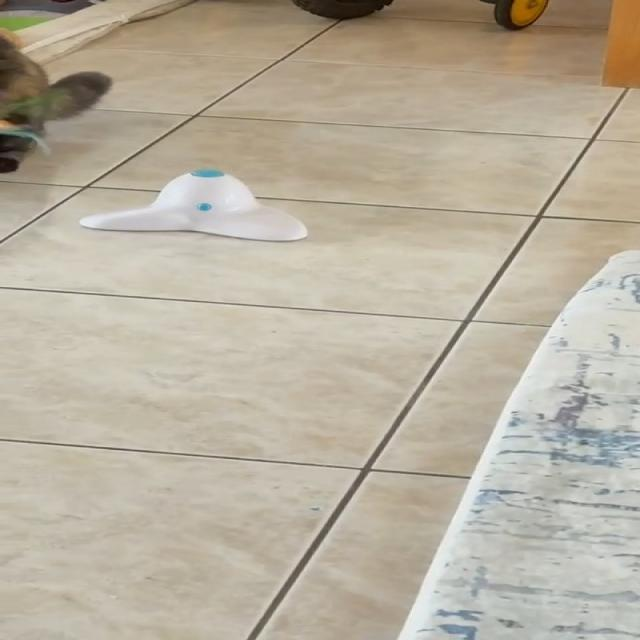authorized: (0, 26, 112, 172)
